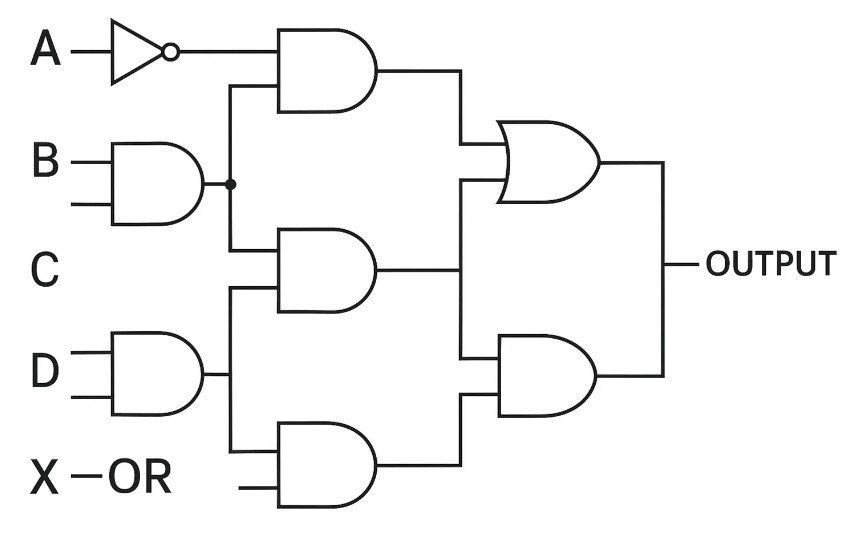and gate: (274, 417, 380, 515), (274, 225, 381, 321), (274, 24, 382, 117), (496, 331, 603, 422), (109, 328, 210, 421), (110, 138, 209, 229)
not gate: (107, 16, 185, 93)
or gate: (492, 117, 607, 207)
